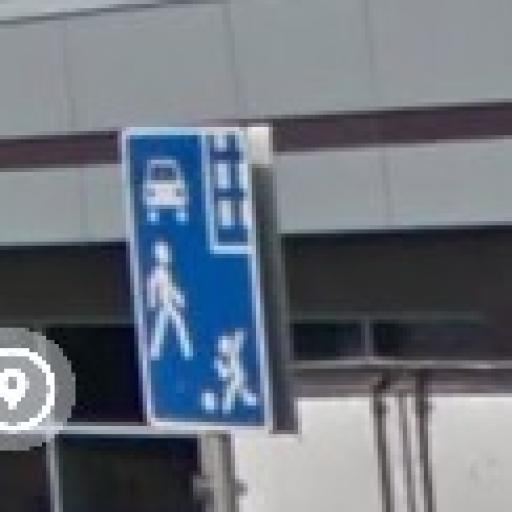traffic_sign: (123, 124, 278, 435)
